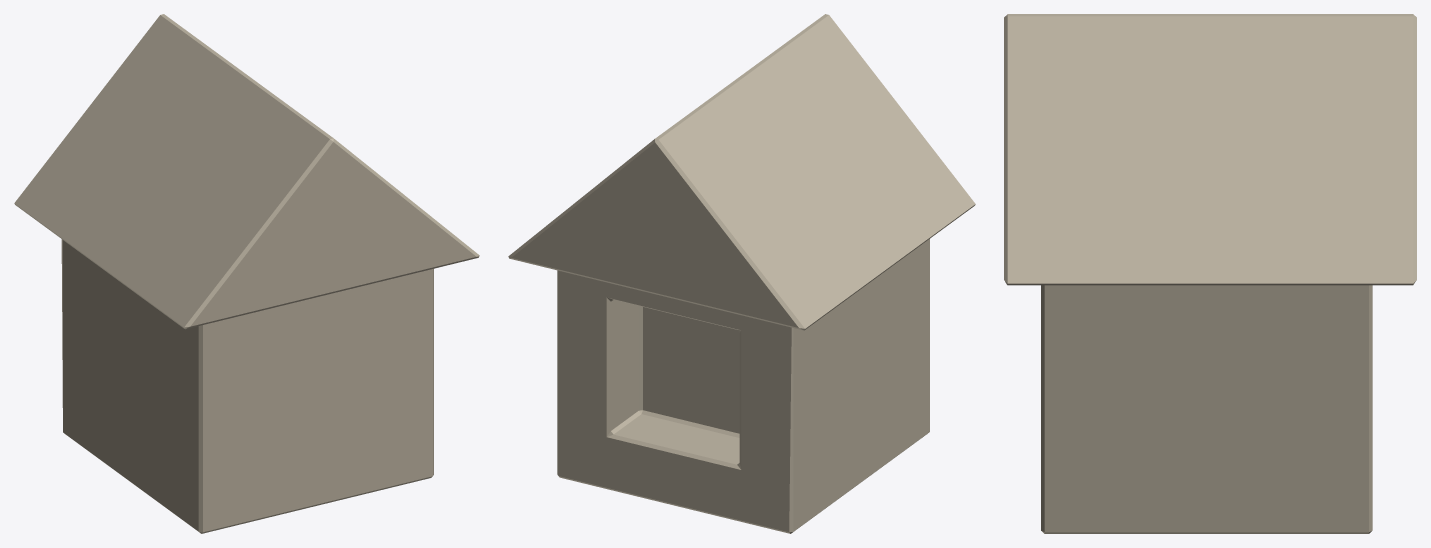
Rendered from roof_dormer.fbx.
The picture shows the model from 3 angles, left to right: view 1: azimuth 30°, elevation 25°; view 2: azimuth 150°, elevation 25°; view 3: azimuth 270°, elevation 25°; orthographic projection. The views are drawn at different scales.
Visible parts, largest first — view 1: roof_dormer; view 2: roof_dormer; view 3: roof_dormer.
Boxes of the visible parts, left/top/right/bottom form: roof_dormer: left=14, top=14, right=479, bottom=533; roof_dormer: left=508, top=14, right=975, bottom=533; roof_dormer: left=1004, top=14, right=1416, bottom=533.
Size of the model in its own units: 553 by 676 by 560.
